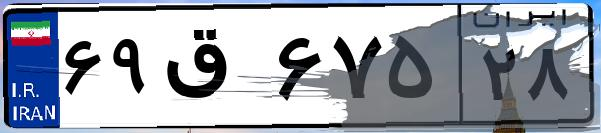2: (475, 38, 525, 113)
5: (385, 28, 445, 110)
6: (270, 28, 330, 110), (57, 26, 110, 100)
7: (330, 28, 385, 110)
8: (525, 38, 570, 115)
9: (110, 28, 158, 98)
ق: (158, 20, 270, 120)
